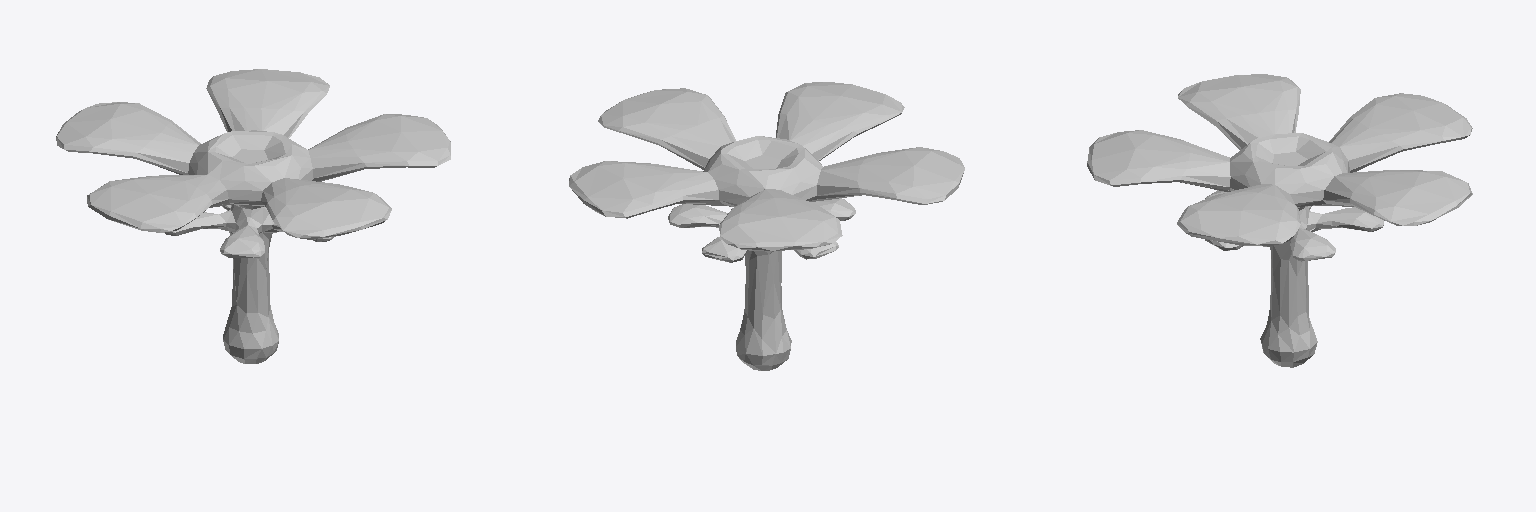
The model's file is FlowerMed.obj.
3 renders of one model, left to right at view 1: azimuth 30°, elevation 25°; view 2: azimuth 150°, elevation 25°; view 3: azimuth 270°, elevation 25°, orthographic.
Parts seen in each view (by area): view 1: Cylinder1_Cylinder1_auv; view 2: Cylinder1_Cylinder1_auv; view 3: Cylinder1_Cylinder1_auv.
Part boxes in pixels (x1,y1,x2,y2): Cylinder1_Cylinder1_auv: (56, 69, 450, 363); Cylinder1_Cylinder1_auv: (569, 82, 964, 370); Cylinder1_Cylinder1_auv: (1087, 74, 1472, 367).
Size of the model in its own units: 3.58 by 2.12 by 3.47.